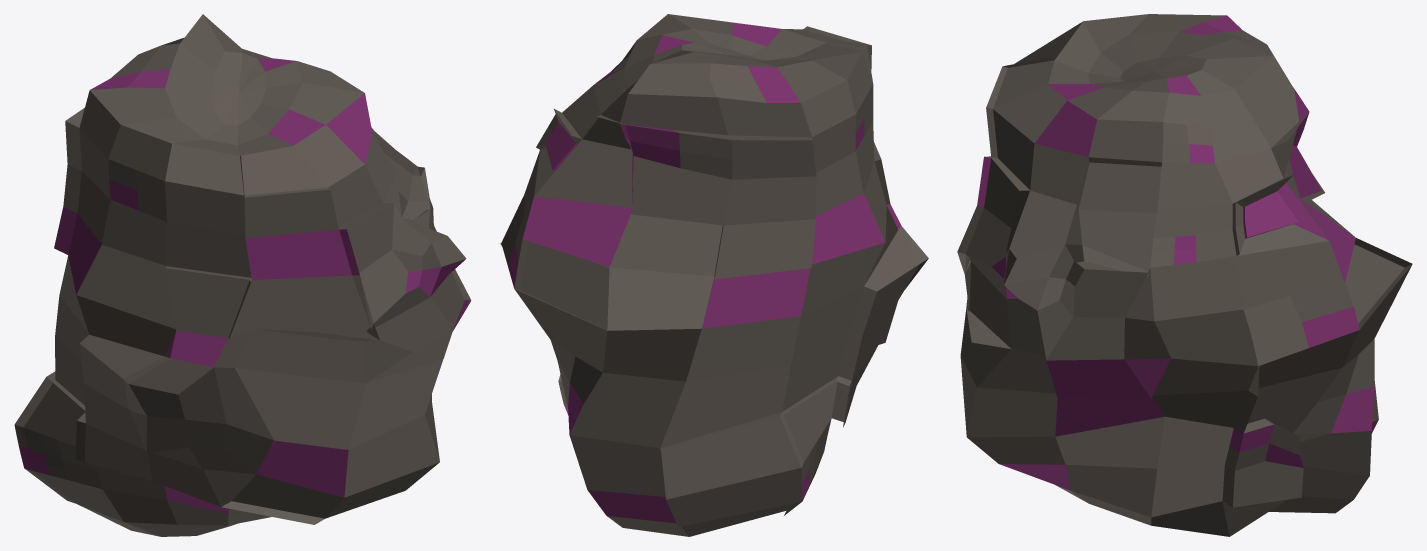
Rendered from Gem Stone.fbx.
3 renders of one model, left to right at view 1: azimuth 30°, elevation 25°; view 2: azimuth 150°, elevation 25°; view 3: azimuth 270°, elevation 25°, orthographic. The views are drawn at different scales.
Parts seen in each view (by area): view 1: Sphere; view 2: Sphere; view 3: Sphere.
Boxes of the visible parts, <box> form: Sphere: <box>14,14,471,536</box>; Sphere: <box>500,14,928,536</box>; Sphere: <box>957,14,1412,536</box>.
Bounding box in the file's own units: 147 × 188 × 166.
